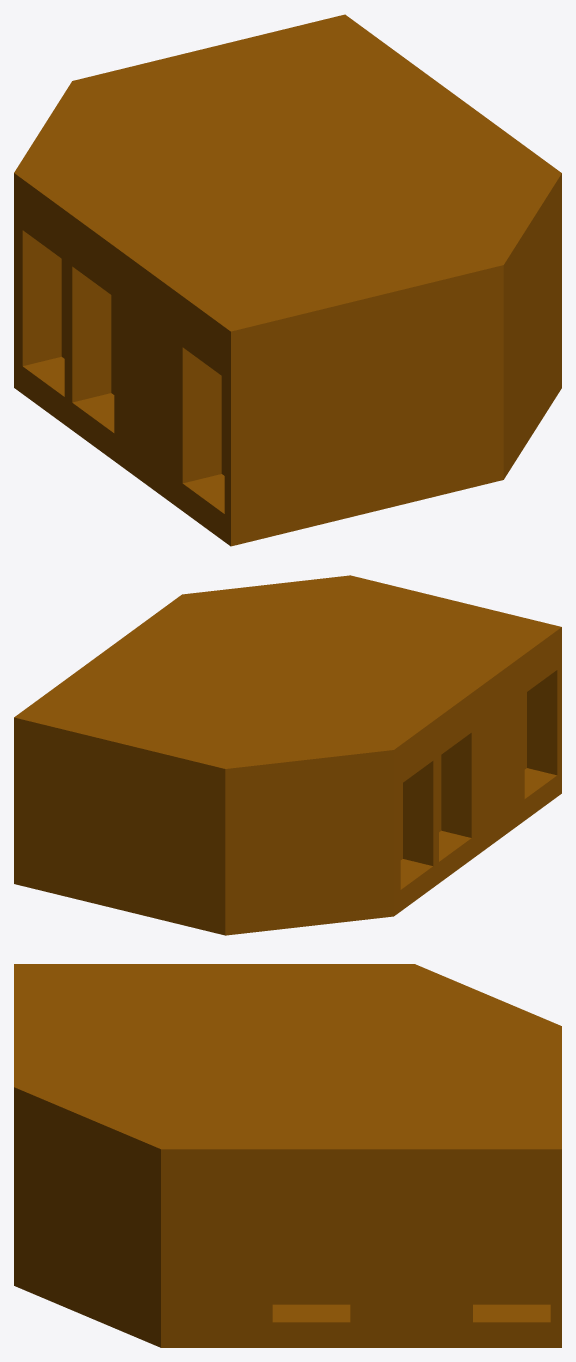
File: SM_Bat2.fbx
3 views of the same model, one above another, from view 1: azimuth 30°, elevation 25°; view 2: azimuth 150°, elevation 25°; view 3: azimuth 270°, elevation 25° (orthographic). The views are drawn at different scales.
Visible parts, largest first — view 1: Bat2; view 2: Bat2; view 3: Bat2.
Boxes of the visible parts, x1,y1,x2,y2 form: Bat2: [14, 14, 561, 546]; Bat2: [14, 575, 561, 935]; Bat2: [14, 964, 561, 1347].
Bounding box in the file's own units: 400 × 200 × 500.
